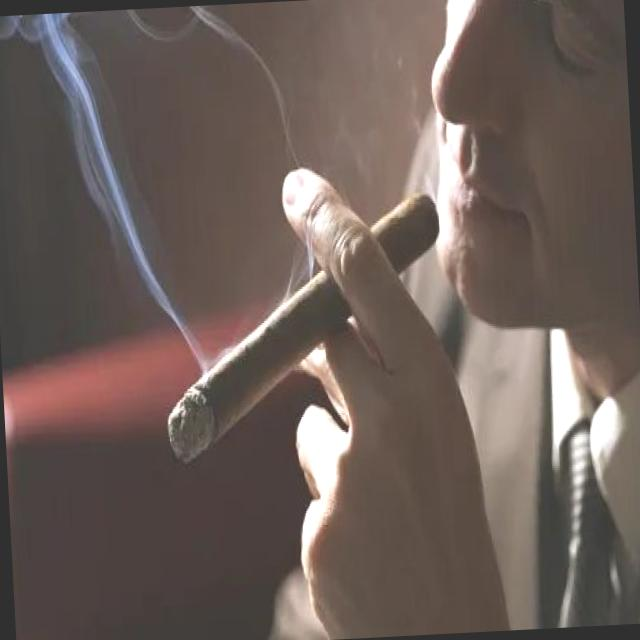smoke: (154, 186, 452, 465)
